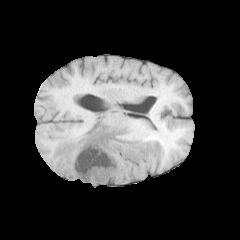glioma: (52, 120, 154, 185)
